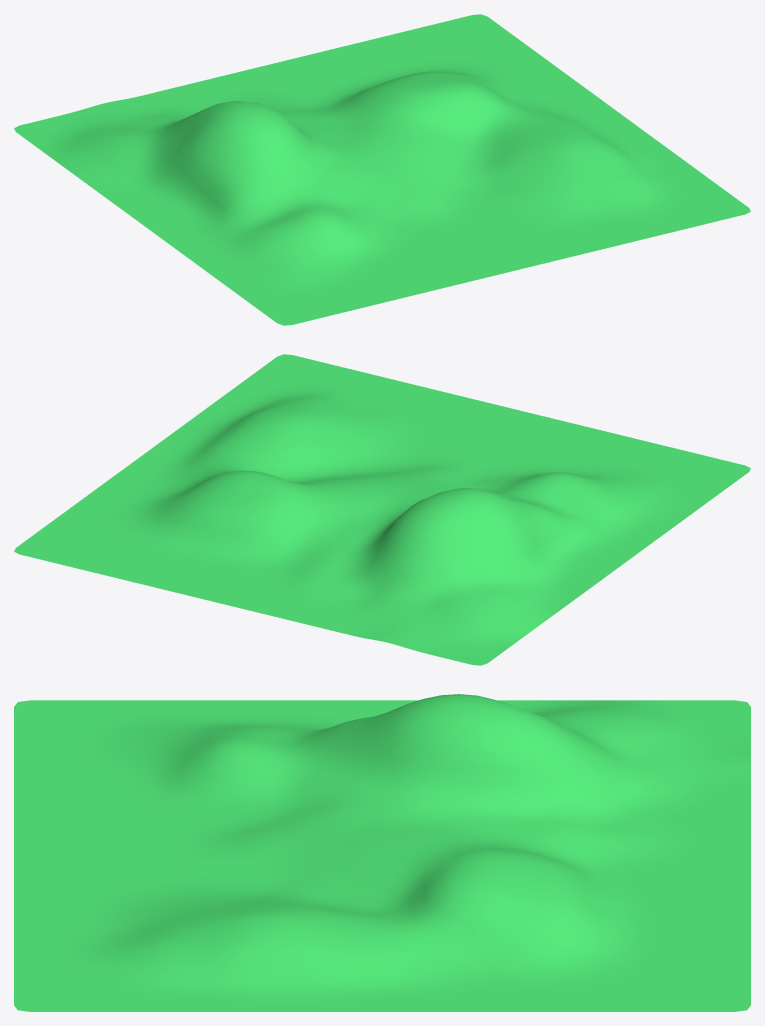
File: MockTerrain.fbx
3 renders of one model, top to bottom at view 1: azimuth 30°, elevation 25°; view 2: azimuth 150°, elevation 25°; view 3: azimuth 270°, elevation 25°, orthographic. The views are drawn at different scales.
Parts seen in each view (by area): view 1: Terrain; view 2: Terrain; view 3: Terrain.
Part boxes in pixels (box(x1,y1,x2,y2)): Terrain: box(14, 14, 750, 325); Terrain: box(14, 354, 750, 665); Terrain: box(14, 694, 750, 1011).
Size of what is drawn, in the model's own units: 400 by 49.05 by 400.
